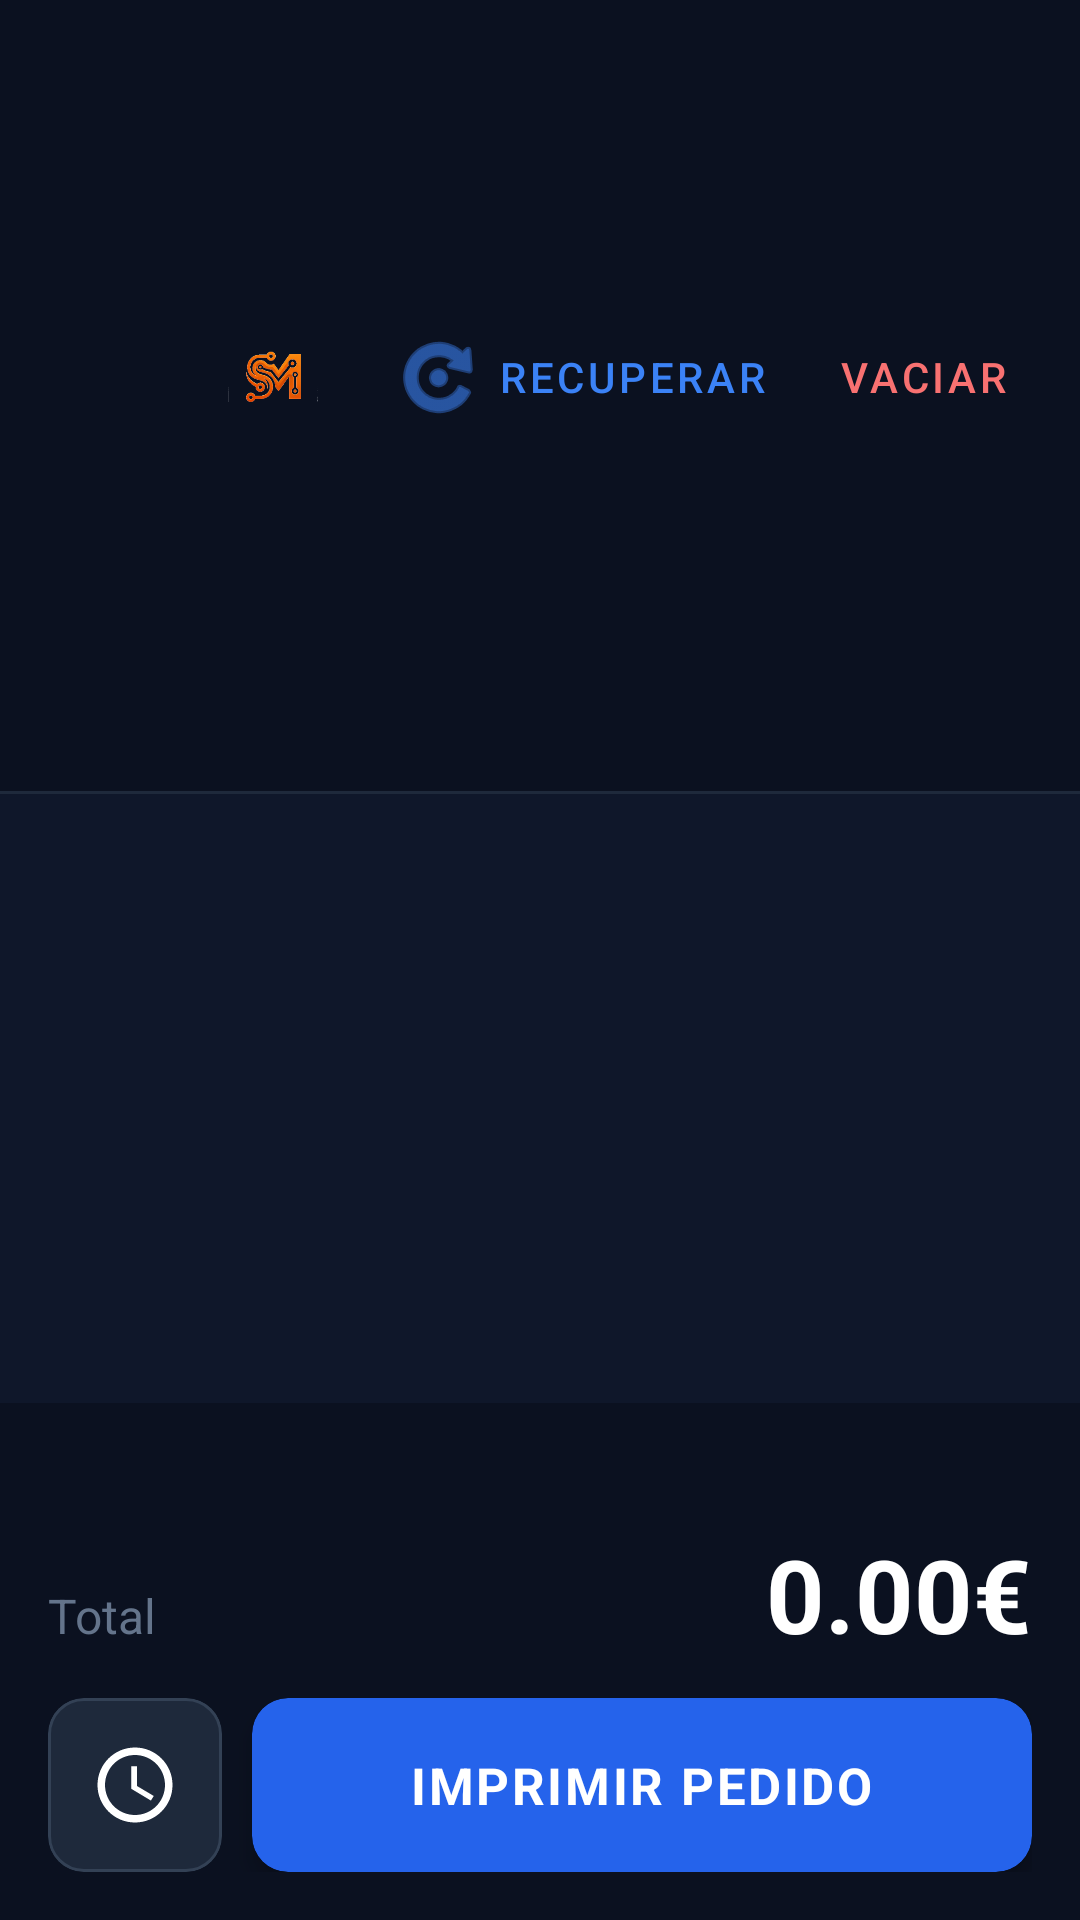

Icon bounding boxes for this 1080px×1920px phone screenshot, format [x1,y1,x2,y2]:
Establecer hora de recogida: [97,1747,173,1823]
